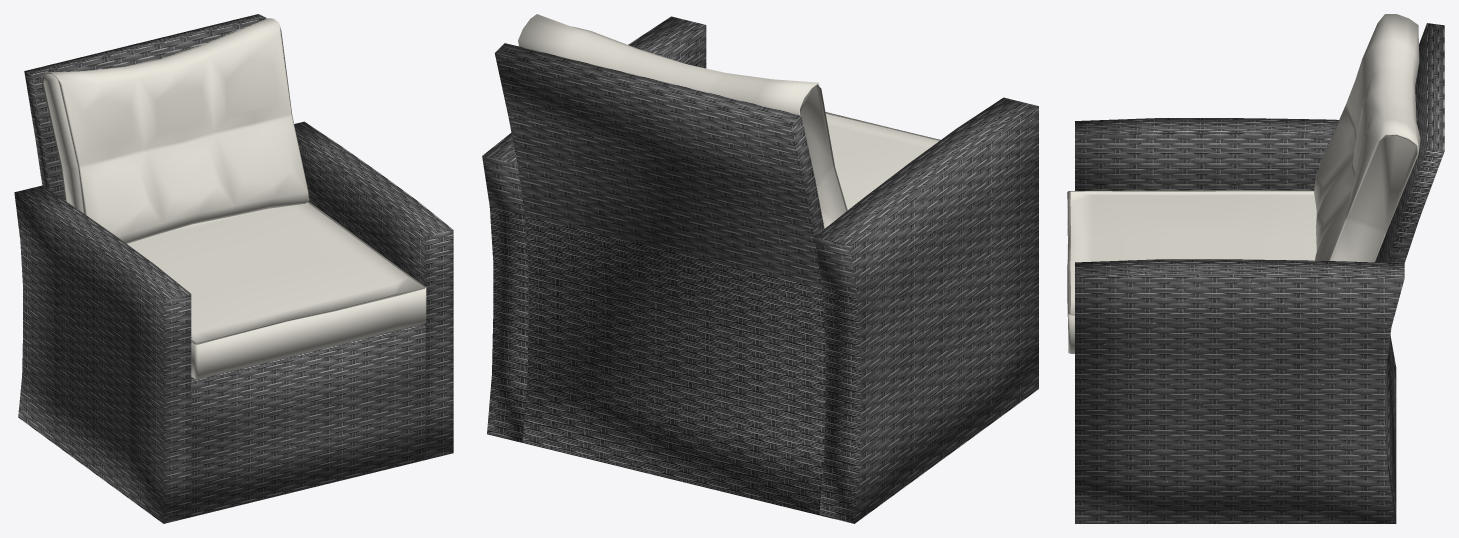
File: scopia-rattanArmchair-quality-v2.glb
3 renders of one model, left to right at view 1: azimuth 30°, elevation 25°; view 2: azimuth 150°, elevation 25°; view 3: azimuth 270°, elevation 25°, orthographic. The views are drawn at different scales.
Parts seen in each view (by area): view 1: armchair_Cube.001, backCushion_Cube.003, baseCushion_Cube.002; view 2: armchair_Cube.001, backCushion_Cube.003, baseCushion_Cube.002; view 3: armchair_Cube.001, baseCushion_Cube.002, backCushion_Cube.003.
Boxes of the visible parts, x1,y1,x2,y2 form: armchair_Cube.001: [14, 14, 453, 523]; backCushion_Cube.003: [41, 18, 309, 243]; baseCushion_Cube.002: [127, 201, 426, 379]; armchair_Cube.001: [482, 16, 1038, 523]; backCushion_Cube.003: [518, 14, 847, 228]; baseCushion_Cube.002: [825, 112, 940, 210]; armchair_Cube.001: [1075, 23, 1444, 523]; baseCushion_Cube.002: [1067, 189, 1316, 353]; backCushion_Cube.003: [1314, 14, 1420, 262].
Bounding box in the file's own units: 0.71 × 0.787 × 0.724.
3 materials, 1 textured.
